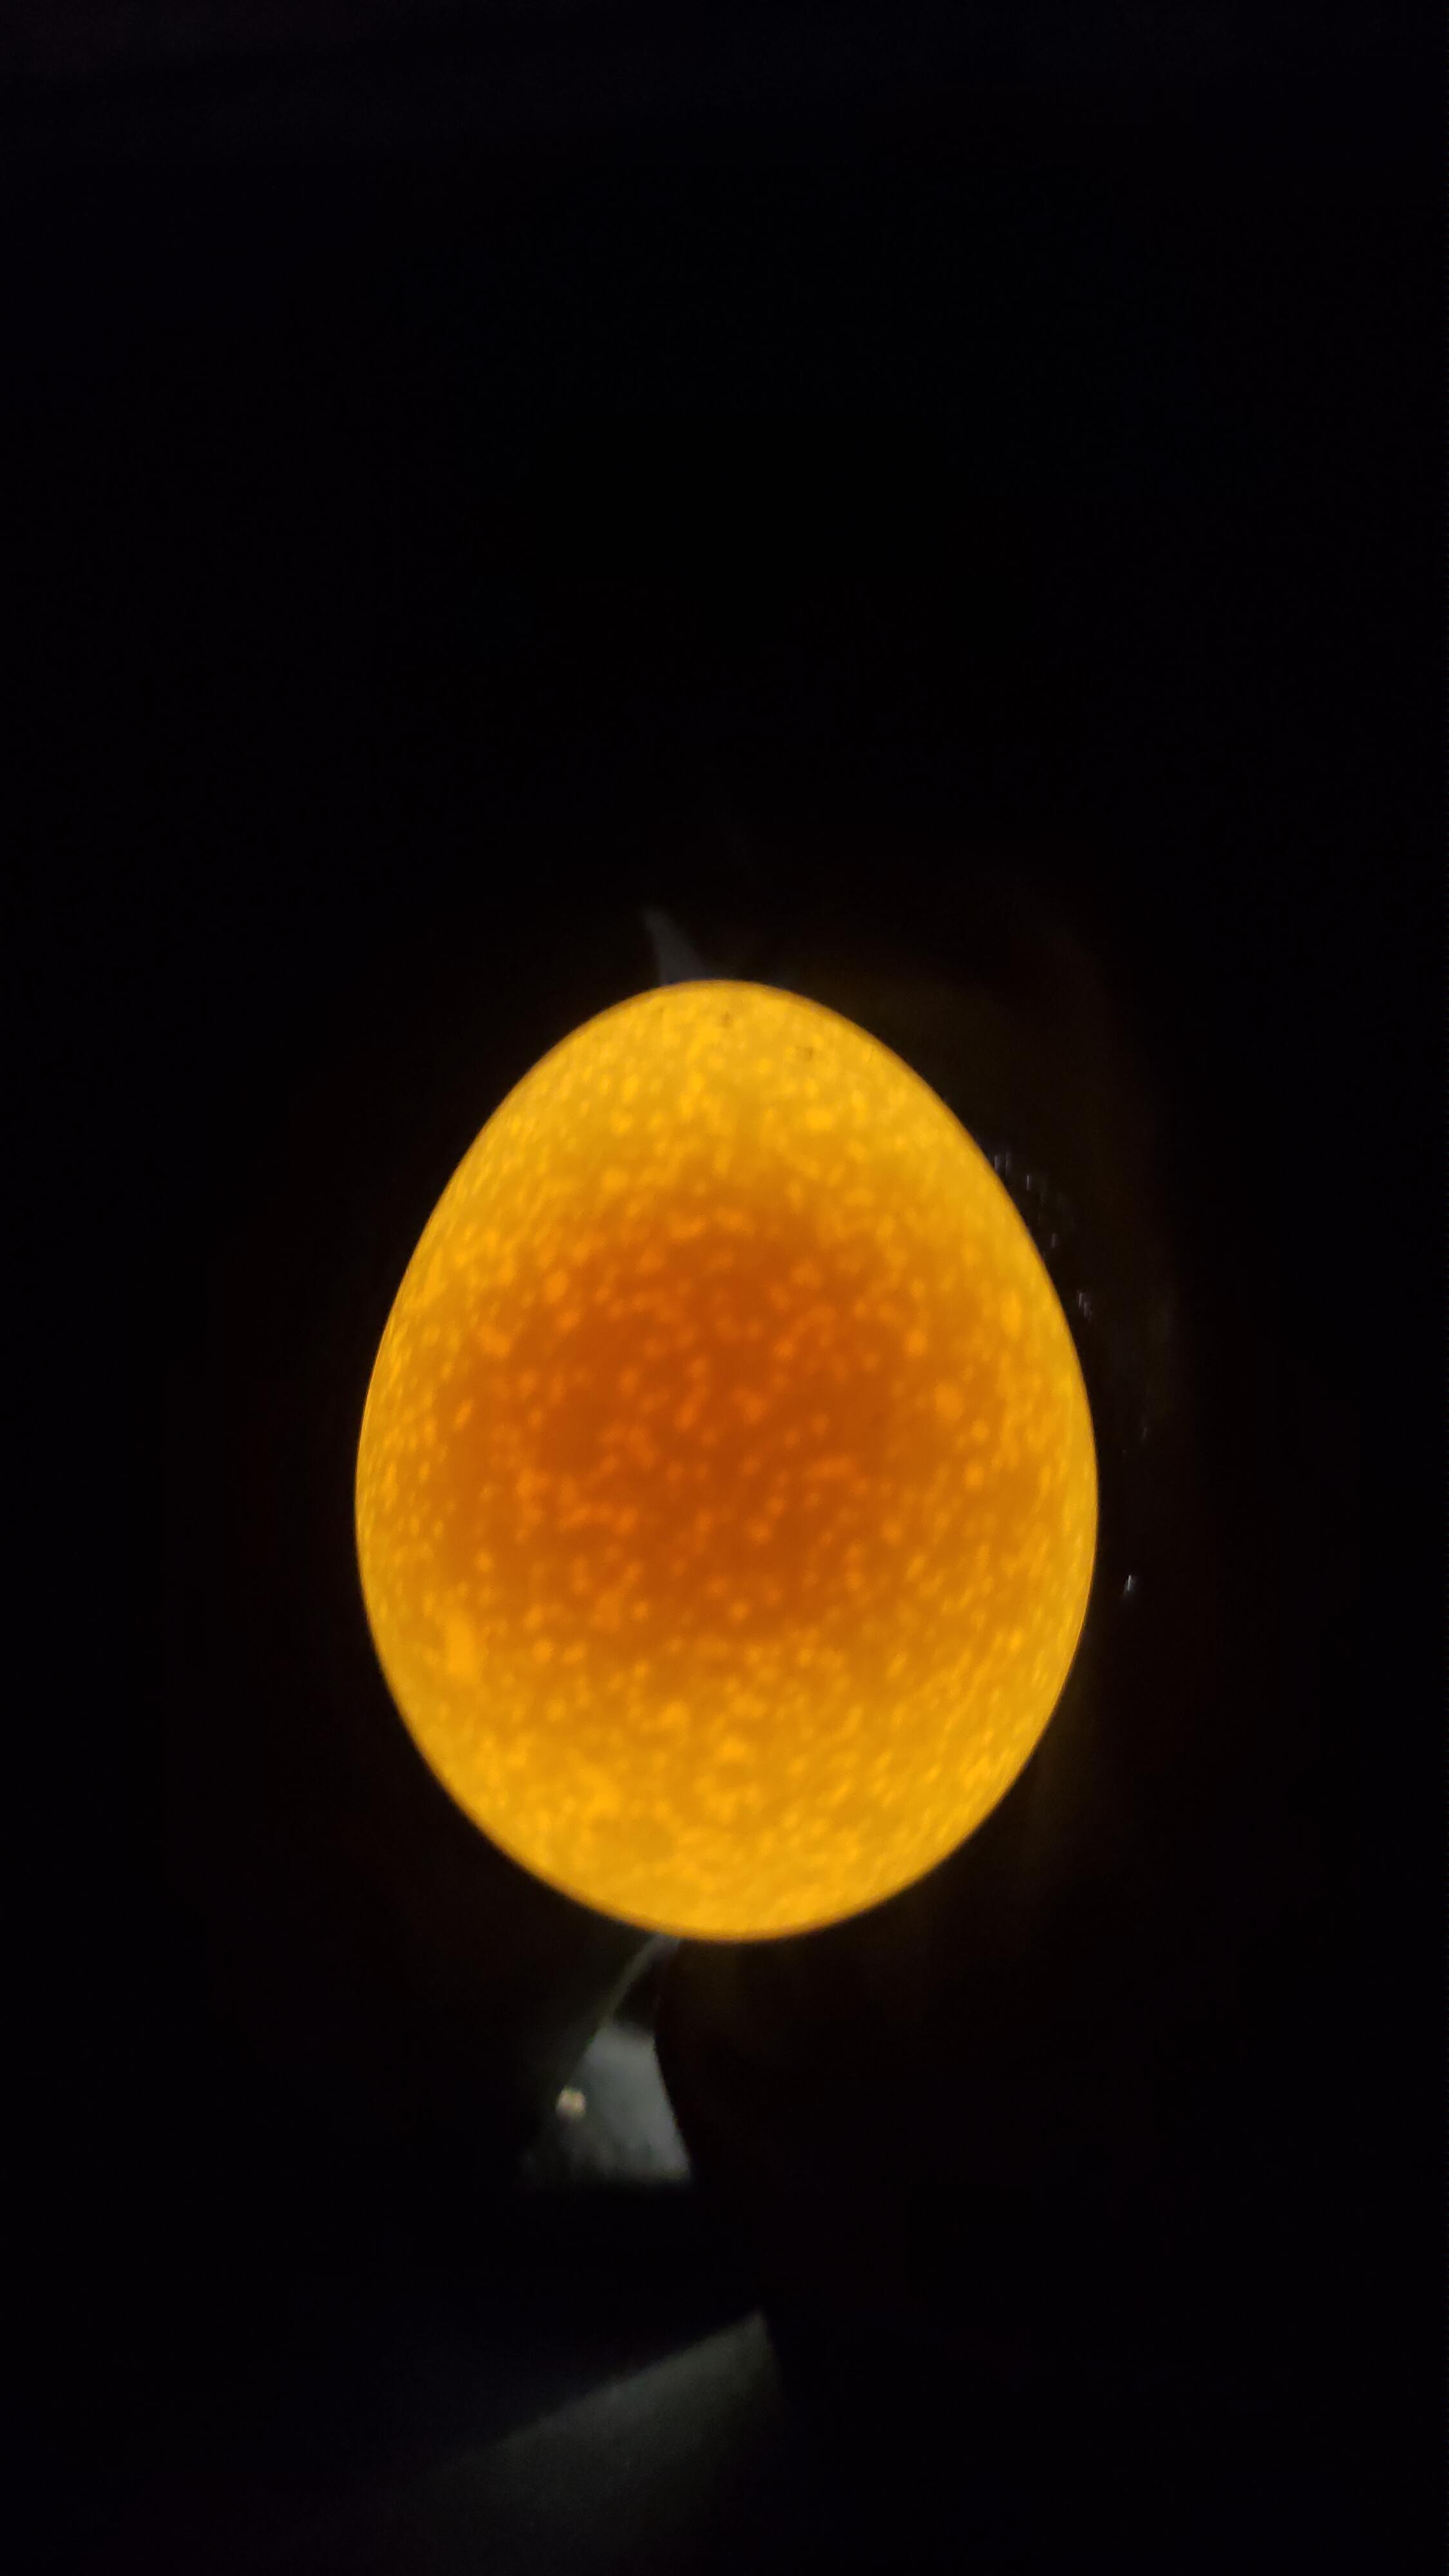A - Good: (290, 927, 1159, 1964)
